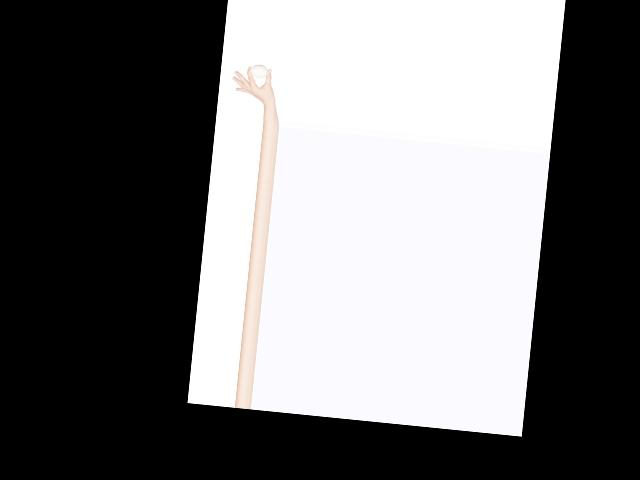egg: (250, 63, 268, 78)
